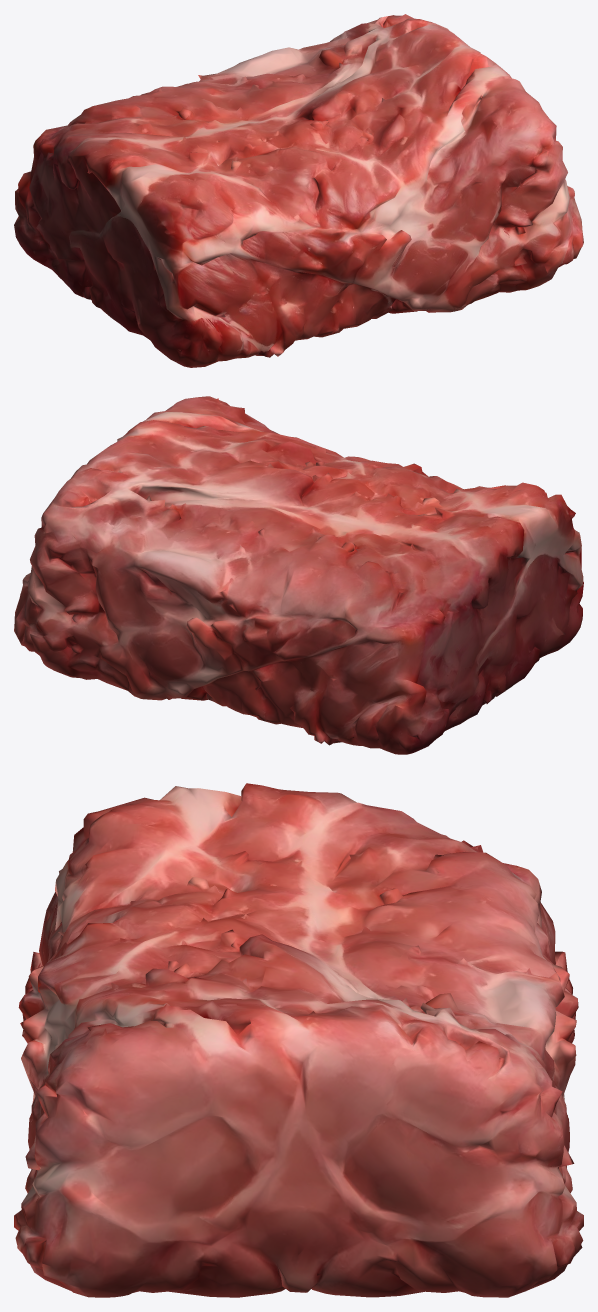
File: tripo_convert_1d7a8b87-1332-4f2c-b30b-1f75bf067664.fbx
3 views of the same model, one above another, from view 1: azimuth 30°, elevation 25°; view 2: azimuth 150°, elevation 25°; view 3: azimuth 270°, elevation 25° (orthographic). The views are drawn at different scales.
Parts seen in each view (by area): view 1: tripo_node_1d7a8b87; view 2: tripo_node_1d7a8b87; view 3: tripo_node_1d7a8b87.
Part boxes in pixels (left/top/right/bottom): tripo_node_1d7a8b87: left=14, top=14, right=583, bottom=367; tripo_node_1d7a8b87: left=14, top=396, right=583, bottom=754; tripo_node_1d7a8b87: left=14, top=783, right=583, bottom=1297.
Size of the model in its own units: 1 by 0.4327 by 0.7932.
1 material, 1 textured.
